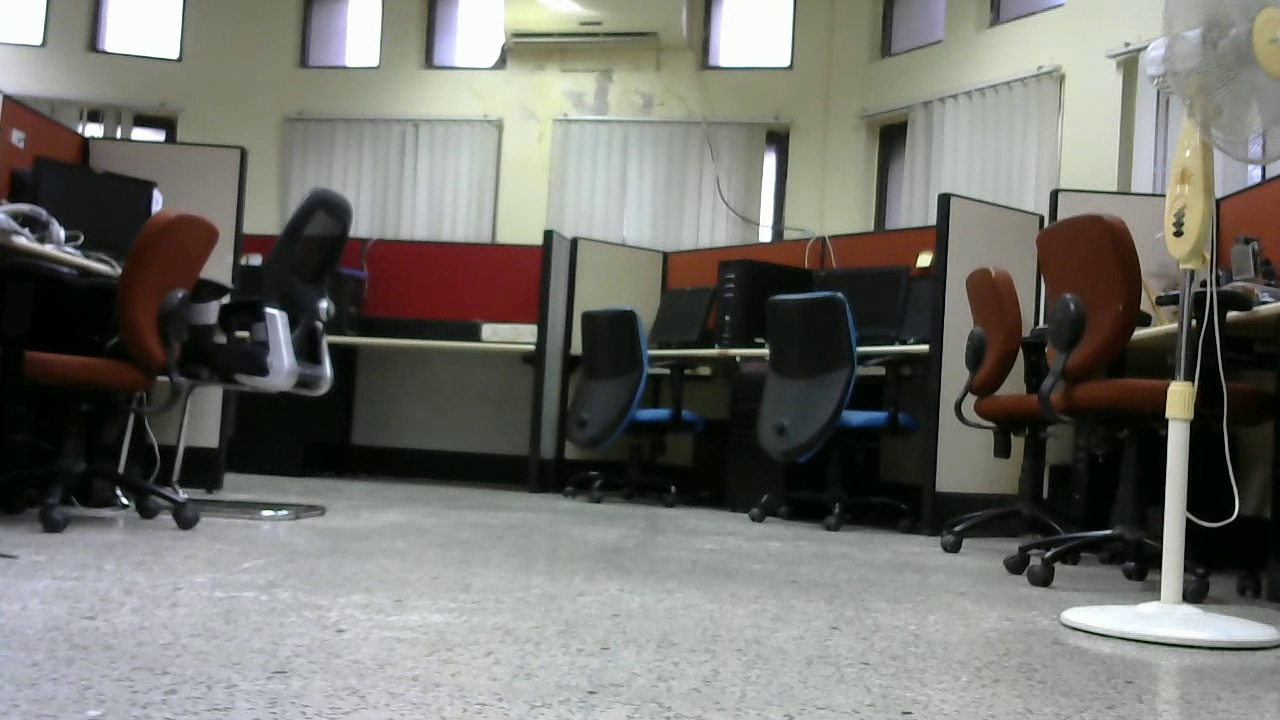chair: (1027, 211, 1208, 594), (29, 212, 224, 526), (217, 184, 359, 521), (937, 267, 1093, 569), (738, 291, 927, 538), (558, 309, 706, 508)
